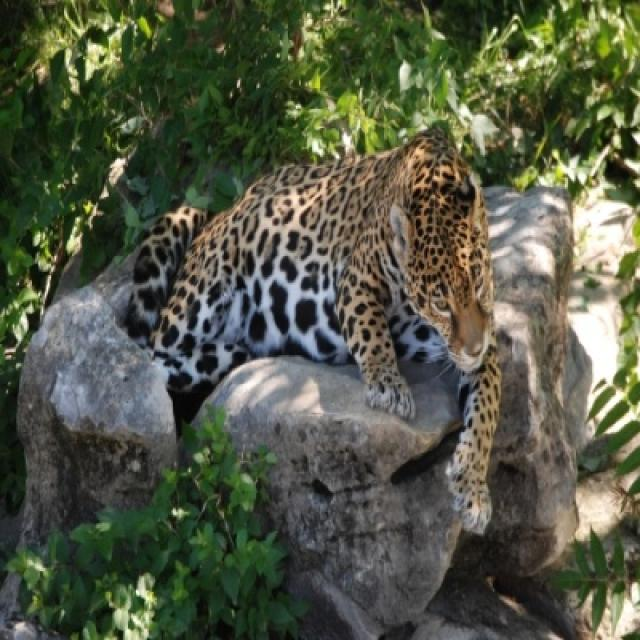Jaguar: (128, 125, 502, 536)
